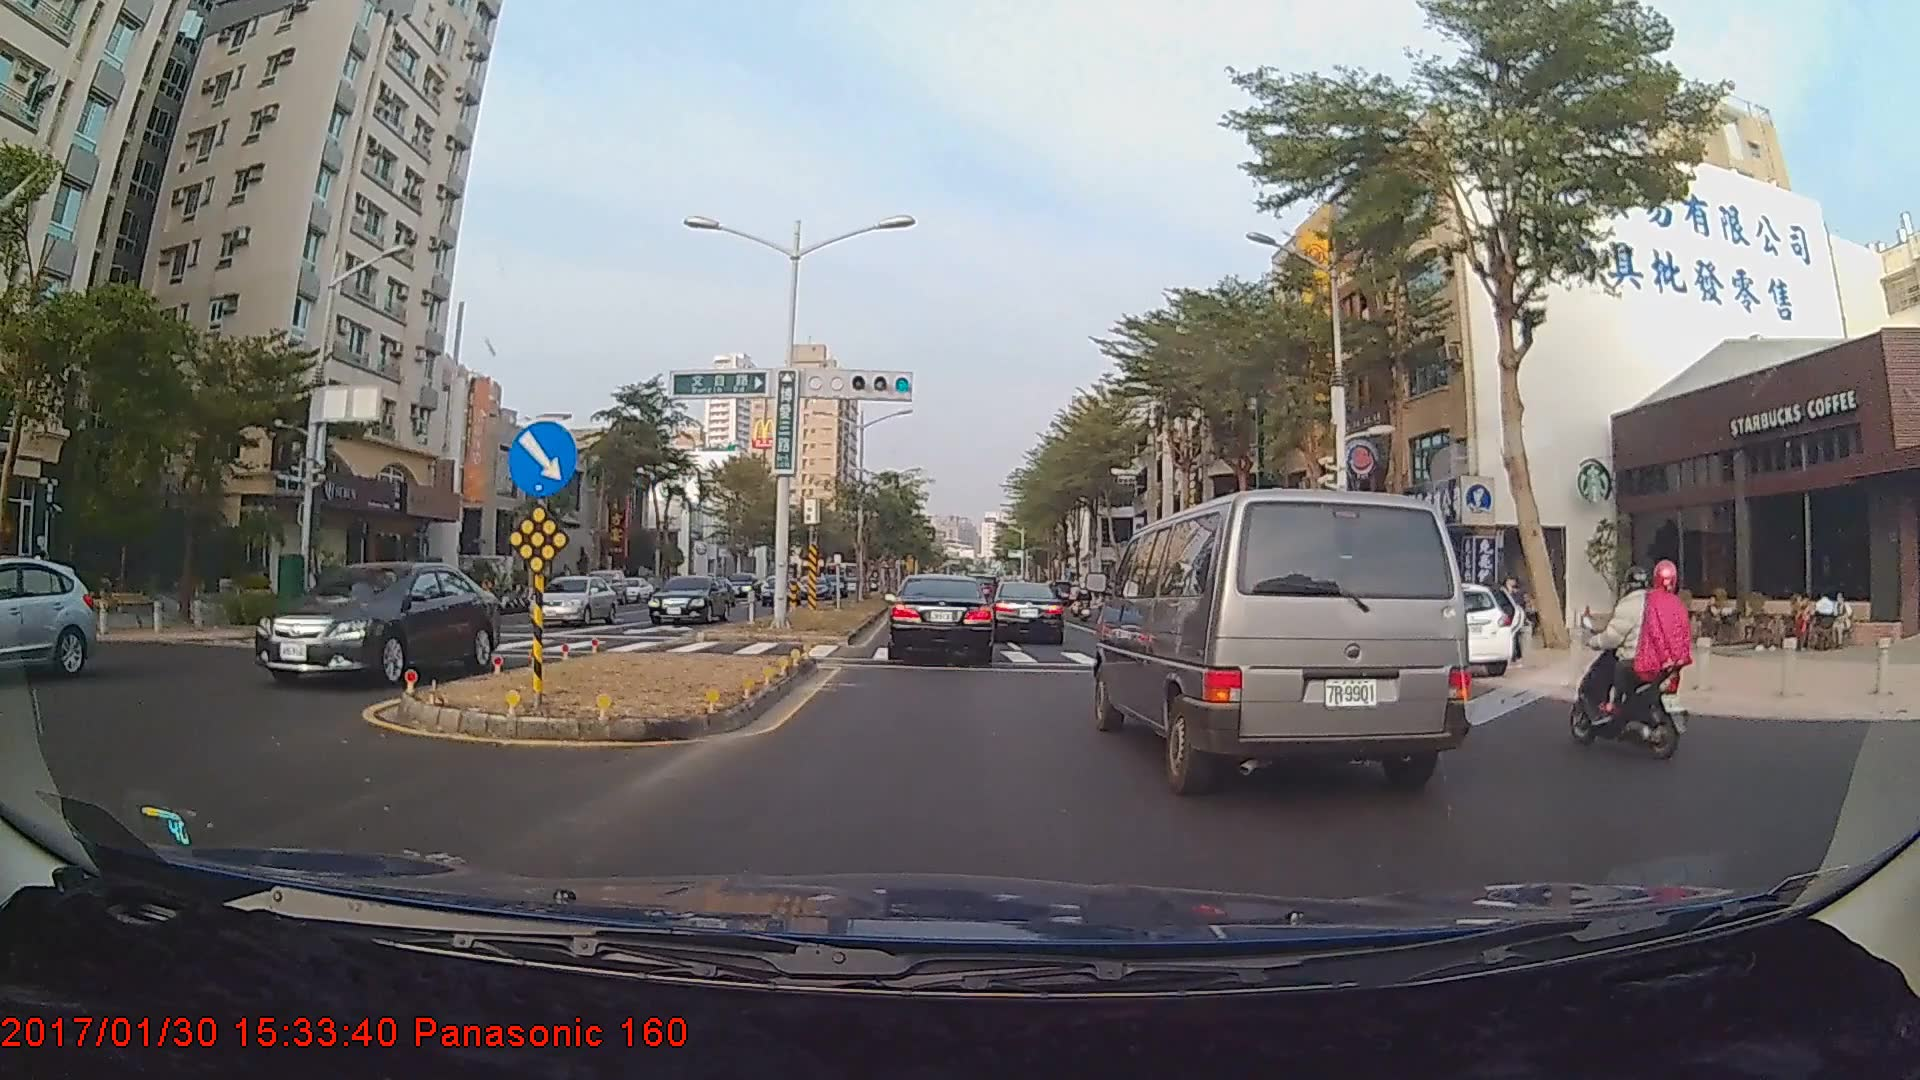rider: (1562, 555, 1702, 755)
vehicle: (1099, 480, 1477, 791), (248, 557, 500, 688), (0, 557, 98, 694), (1376, 581, 1513, 677), (888, 573, 997, 661), (992, 579, 1064, 643), (530, 573, 619, 627), (646, 572, 728, 626)
